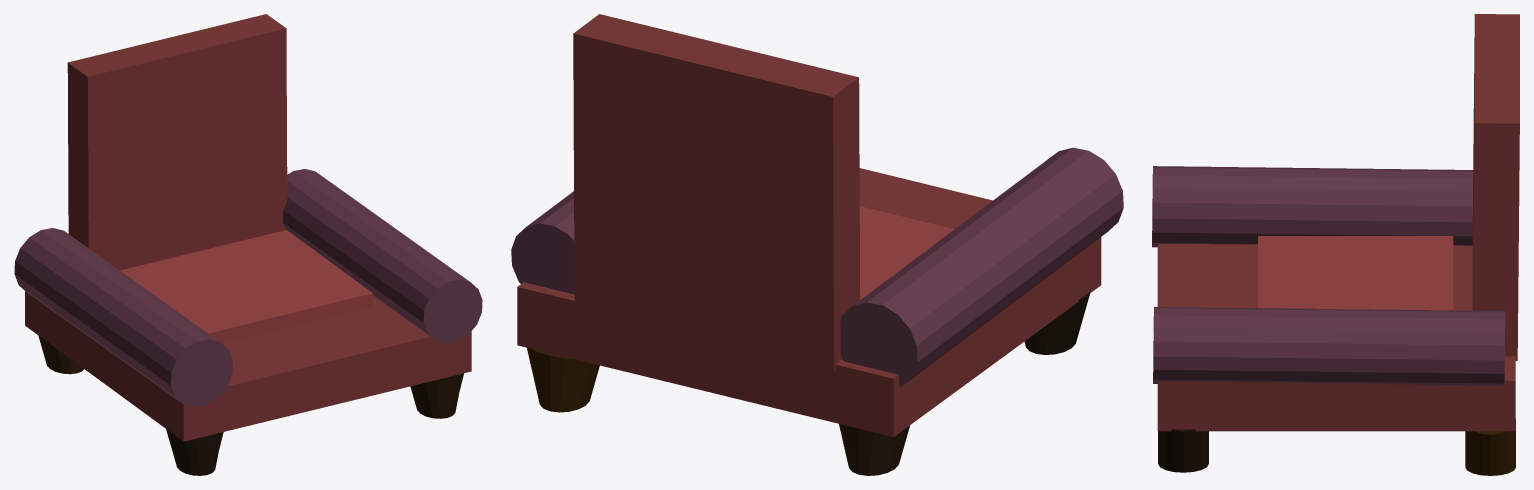
File: new_armchair.fbx
3 views of the same model, side by side, from view 1: azimuth 30°, elevation 25°; view 2: azimuth 150°, elevation 25°; view 3: azimuth 270°, elevation 25° (orthographic). The views are drawn at different scales.
Visible parts, largest first — view 1: Cube.001, Cube, Cylinder.001, Cube.003, Cylinder, Cylinder.003, Cylinder.002, Cylinder.004; view 2: Cube.001, Cube, Cylinder.001, Cylinder, Cube.003, Cylinder.005, Cylinder.004, Cylinder.003; view 3: Cylinder, Cube, Cylinder.001, Cube.001, Cube.003, Cylinder.005, Cylinder.002.
Boxes of the visible parts, x1,y1,x2,y2 form: Cube.001: (67,14,287,270); Cube: (25,291,471,441); Cylinder.001: (14,228,232,406); Cube.003: (120,230,372,343); Cylinder: (283,169,482,343); Cylinder.003: (165,427,223,475); Cylinder.002: (410,373,463,418); Cylinder.004: (38,335,83,374); Cube.001: (573,14,860,370); Cube: (517,168,1101,436); Cylinder.001: (840,147,1123,386); Cylinder: (511,191,574,294); Cube.003: (859,206,954,299); Cylinder.005: (527,348,599,412); Cylinder.004: (839,424,909,475); Cylinder.003: (1024,291,1090,354); Cylinder: (1153,307,1505,385); Cube: (1157,243,1515,431); Cylinder.001: (1152,166,1473,247); Cube.001: (1472,14,1519,360); Cube.003: (1258,236,1453,310); Cylinder.005: (1465,419,1515,475); Cylinder.002: (1158,429,1208,472).
Bounding box in the file's own units: 163 × 147 × 147.
